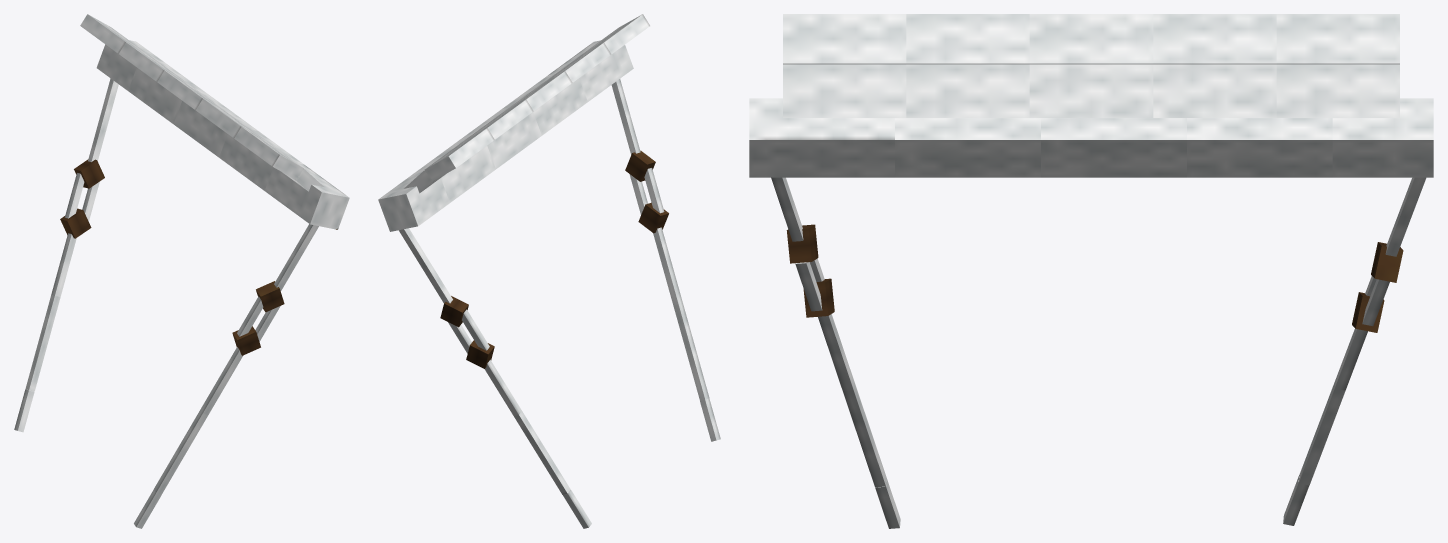
File: cog_segel_1_1.obj
The picture shows the model from 3 angles, left to right: view 1: azimuth 30°, elevation 25°; view 2: azimuth 150°, elevation 25°; view 3: azimuth 270°, elevation 25°; orthographic projection. The views are drawn at different scales.
Parts seen in each view (by area): view 1: cube; view 2: cube; view 3: cube.
Boxes of the visible parts, x1,y1,x2,y2 form: cube: (14, 14, 349, 528); cube: (378, 14, 720, 528); cube: (749, 14, 1433, 528).
Bounding box in the file's own units: 1.75 × 3.67 × 3.81.
